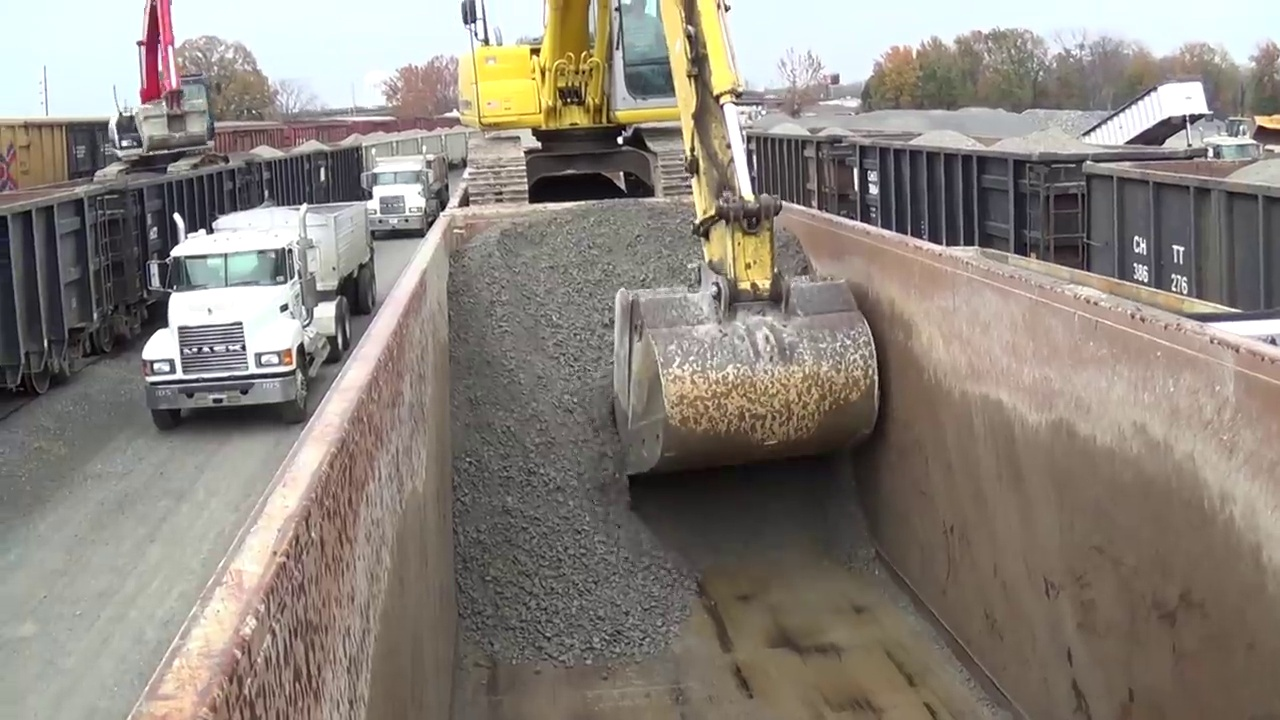excavator: (466, 1, 883, 478), (93, 2, 220, 187)
truck: (142, 202, 378, 428), (363, 153, 448, 235)
